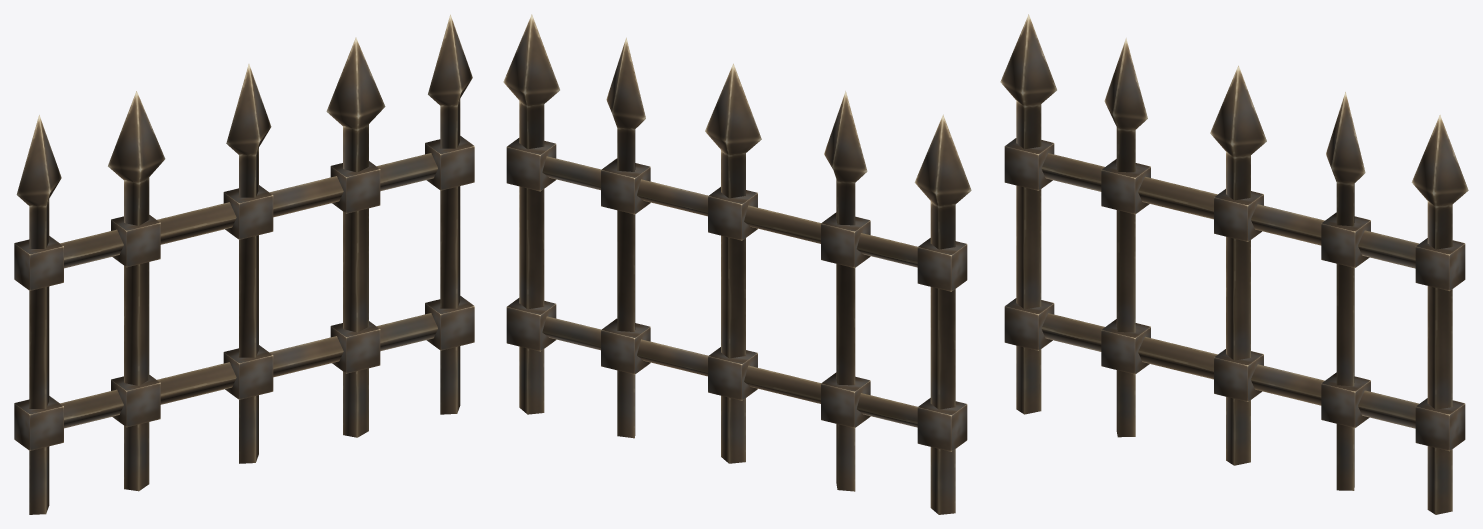
The model's file is Fence_Harrow01.FBX.
3 renders of one model, left to right at view 1: azimuth 30°, elevation 25°; view 2: azimuth 150°, elevation 25°; view 3: azimuth 330°, elevation 25°, orthographic.
Visible parts, largest first — view 1: Fence_Harrow01; view 2: Fence_Harrow01; view 3: Fence_Harrow01.
Part boxes in pixels (<box>): Fence_Harrow01: <box>14,14,474,514</box>; Fence_Harrow01: <box>503,14,971,514</box>; Fence_Harrow01: <box>1000,14,1468,514</box>.
Bounding box in the file's own units: 3.82 × 0.2529 × 3.13.
